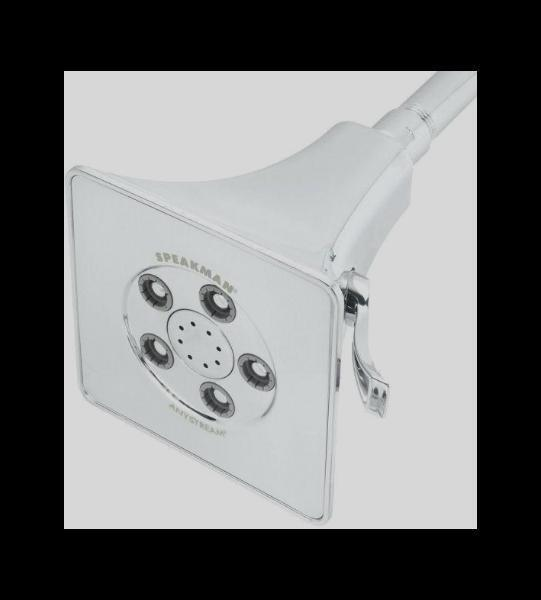Ducha: (64, 71, 476, 528)
